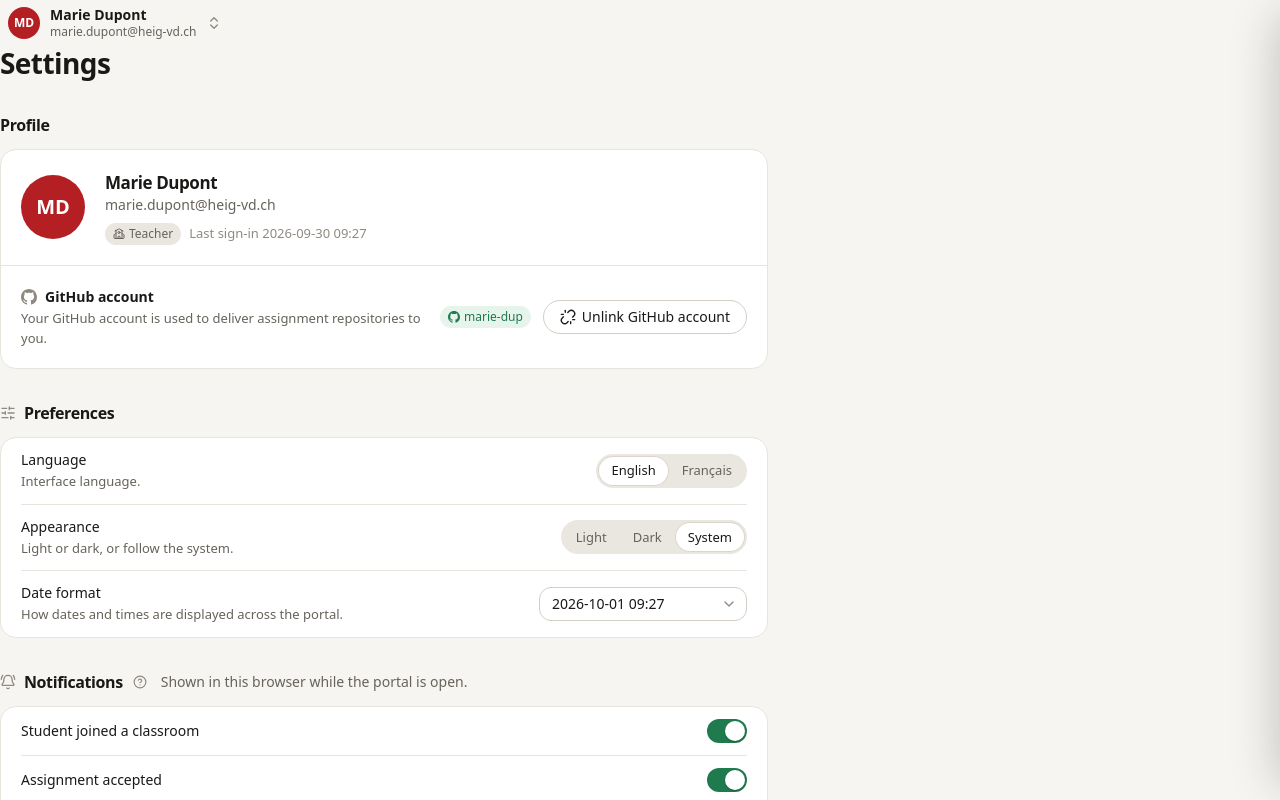
Test: theme surfaces stay in step › relabels the menu toggle after the settings control picked dark
Click the button with aria-label "User menu" at point(115, 23), box [0, 0, 230, 46]
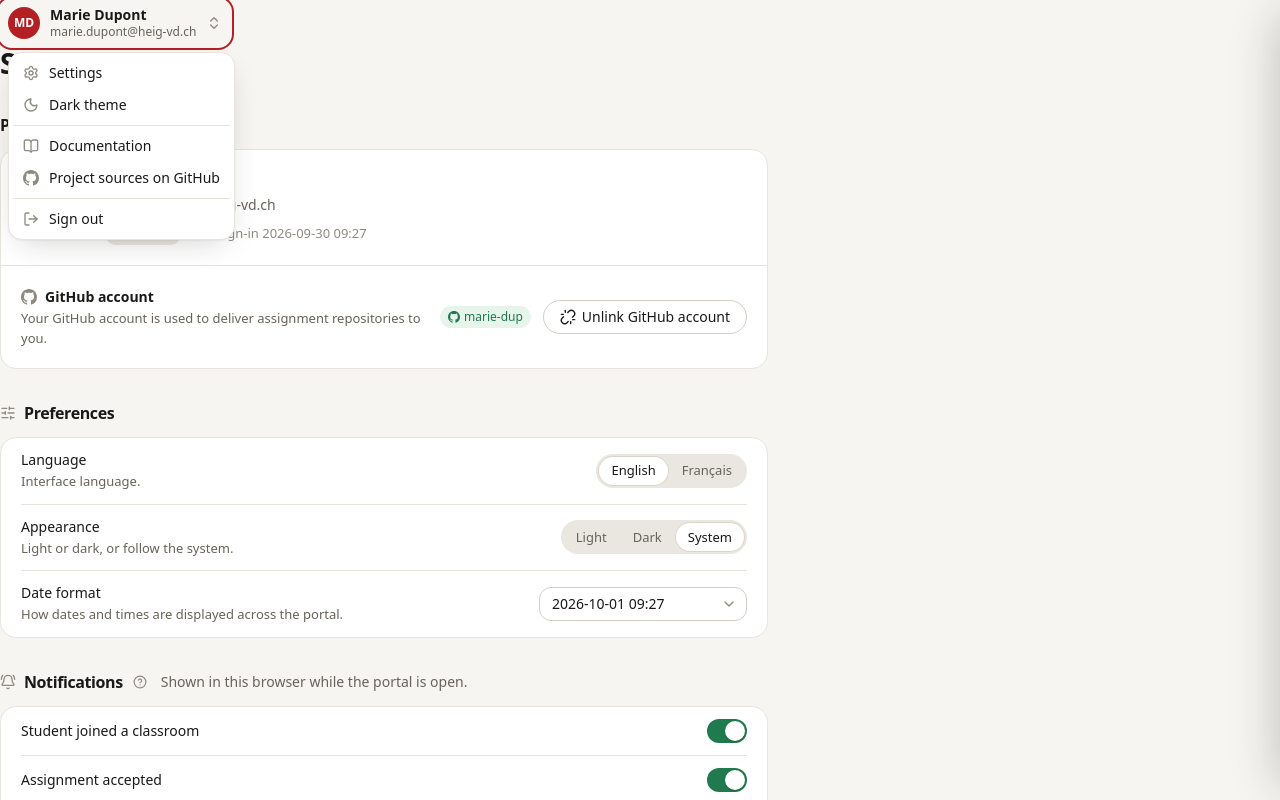
Expected: the menu item "Dark theme" is shown, [13, 88, 230, 120]
Press Escape
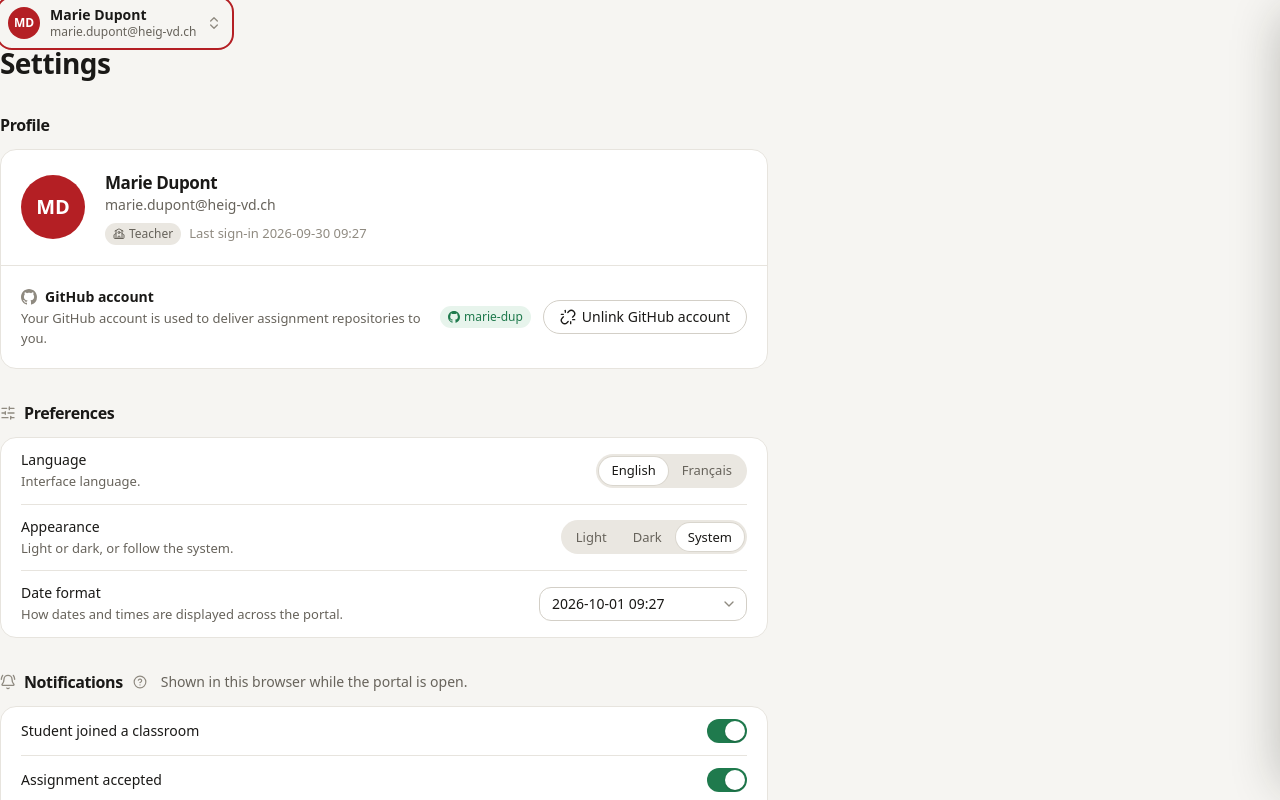
Click the radio button labelled "Dark" at point(647, 536), box [633, 528, 662, 546]
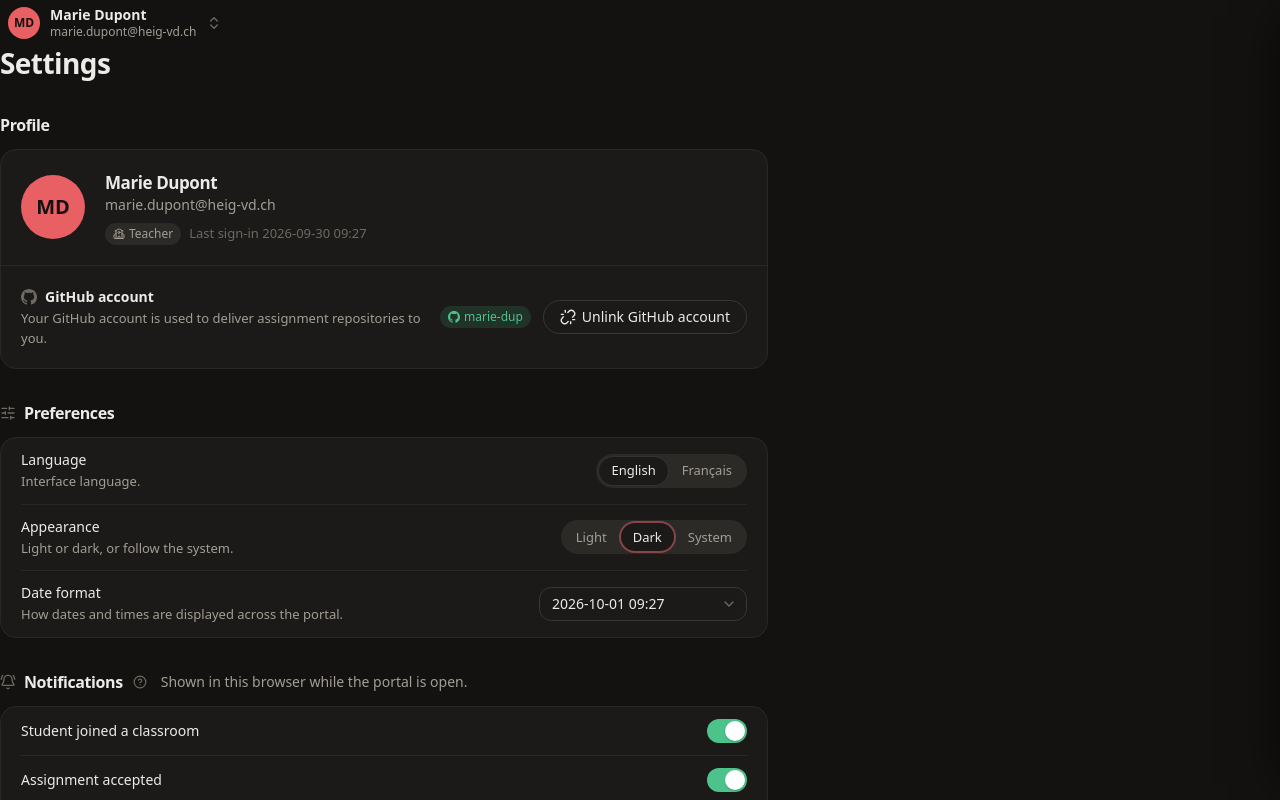
Click the button with aria-label "User menu" at point(115, 23), box [0, 0, 230, 46]
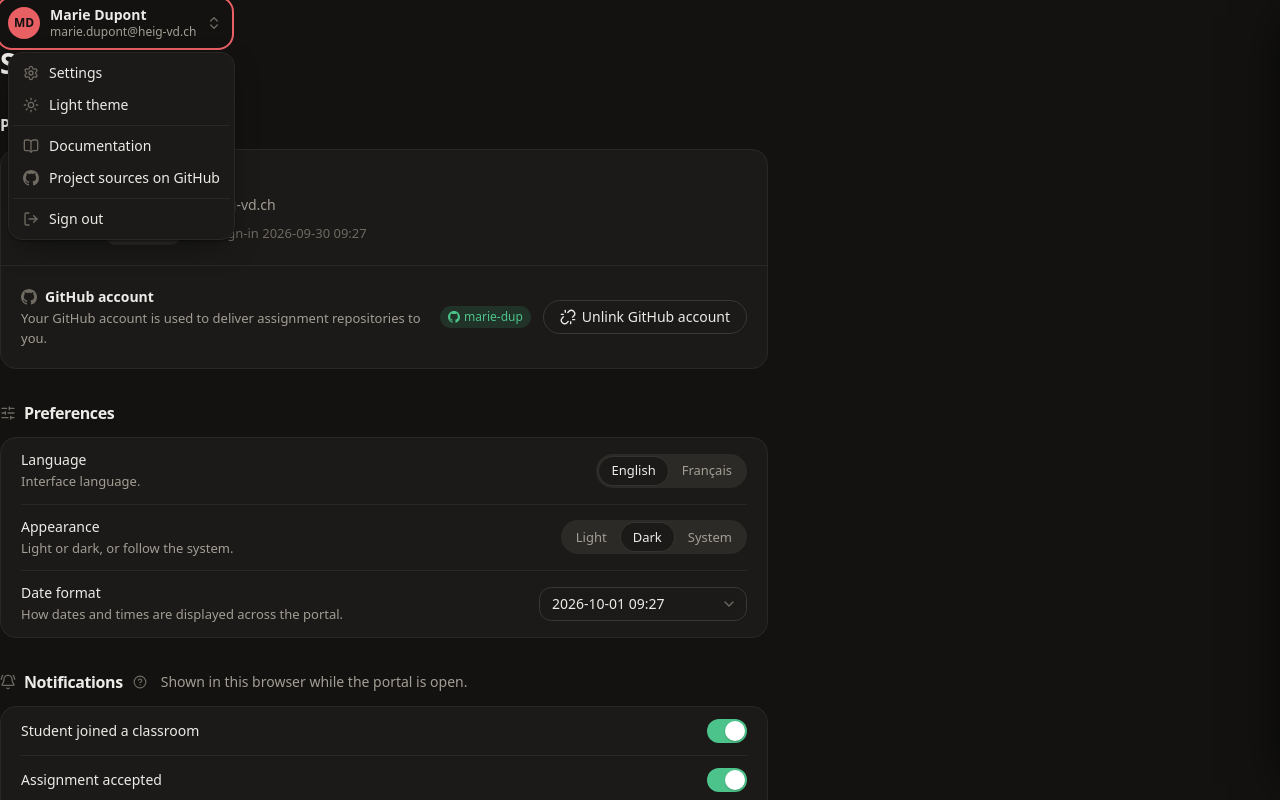
Expected: the menu item "Light theme" is shown, [13, 88, 230, 120]
